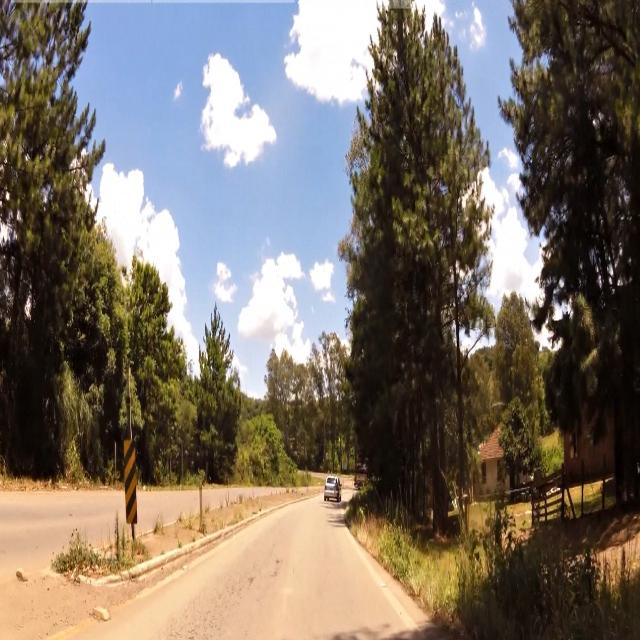MP: (122, 440, 140, 524)
